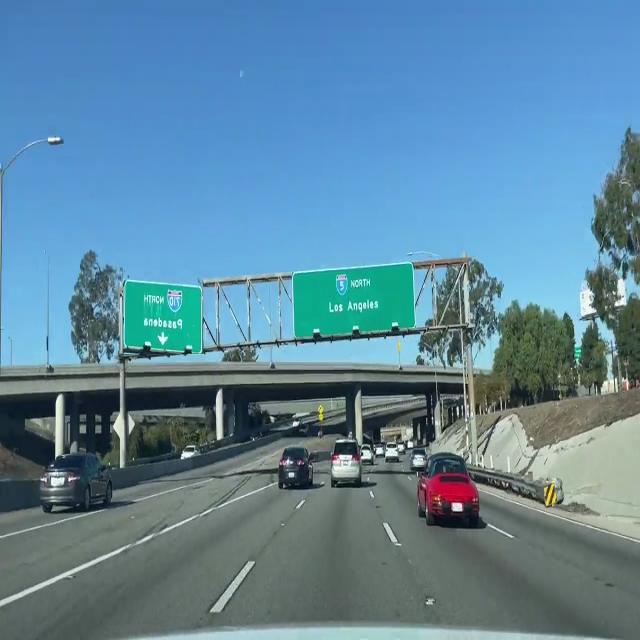street-signs: (292, 262, 416, 338), (124, 279, 203, 354)
